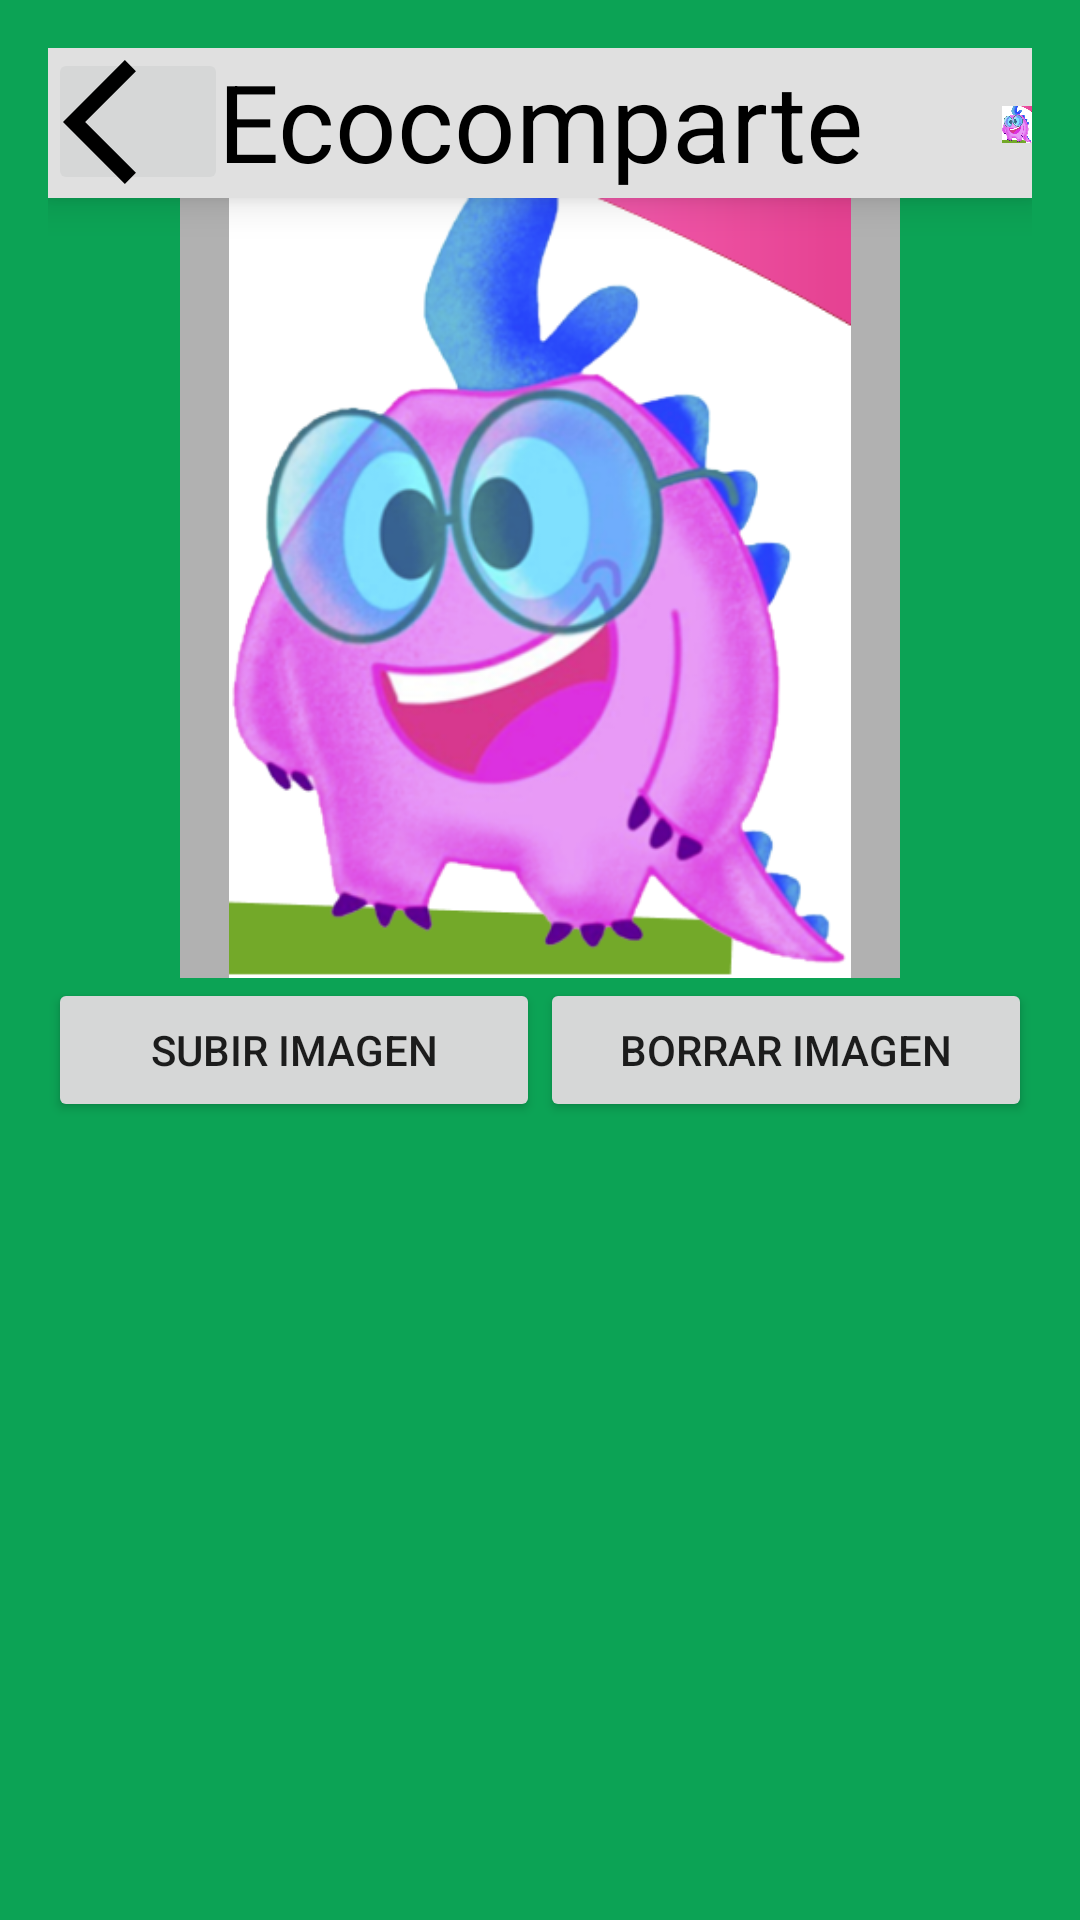

Icon bounding boxes for this 1080 × 1920 phone screenshot, format (x1, y1, x2, y2):
arrowleft: (48, 48, 228, 195)
